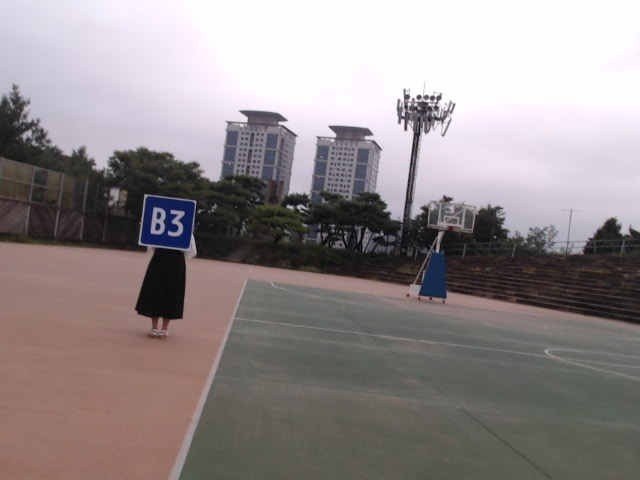delivery_b3: (141, 195, 196, 251)
